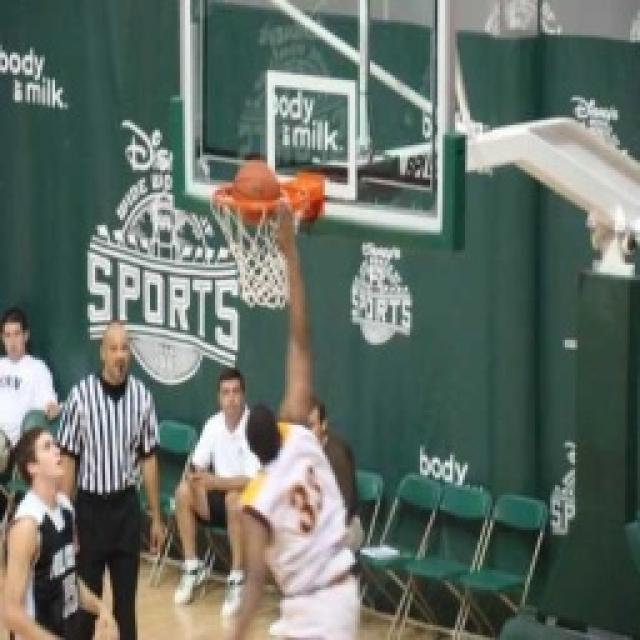rim: (227, 151, 285, 223)
